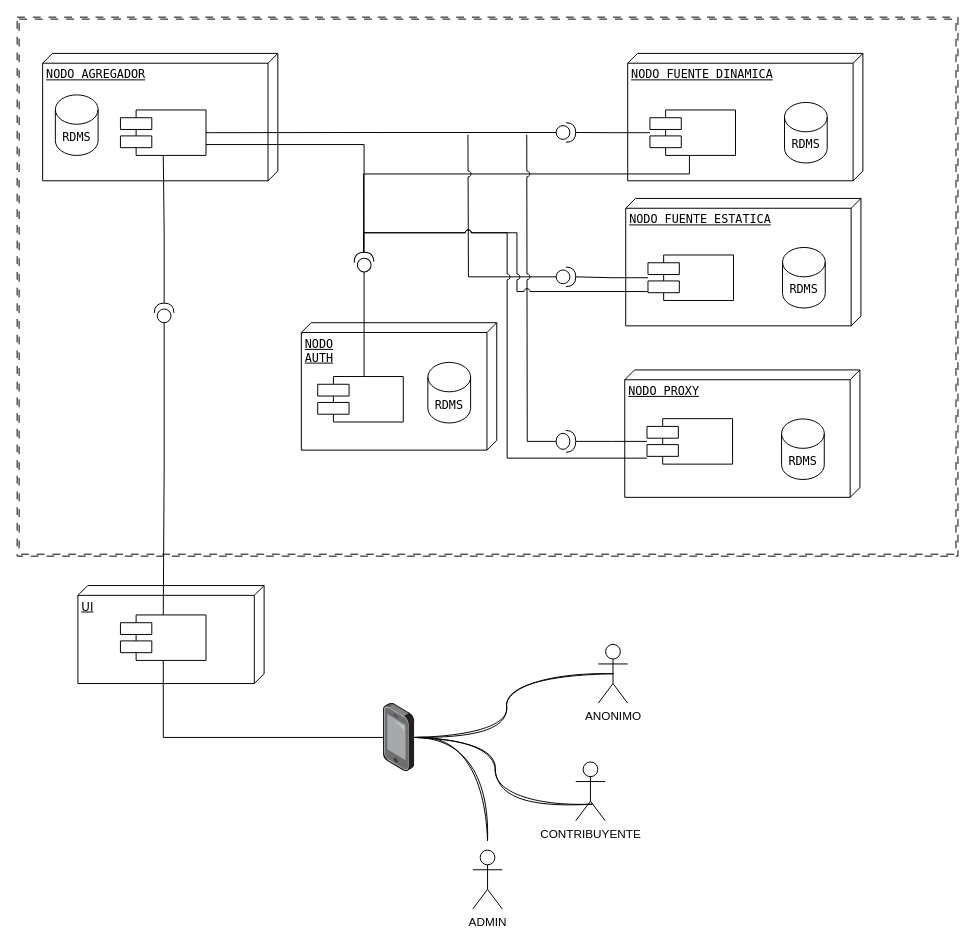
The diagram is 975 pixels wide and 947 high, and some of its shapes have lost their labels. Here are the shapes that lost their labels. From the top down, the centre of each, then its label:
pixel 162 132: Agregador
pixel 692 132: Fuente Dinámica
pixel 690 277: Fuente Estatica
pixel 360 399: AUTH
pixel 689 441: Fuente Proxu
pixel 162 637: WebAPP
